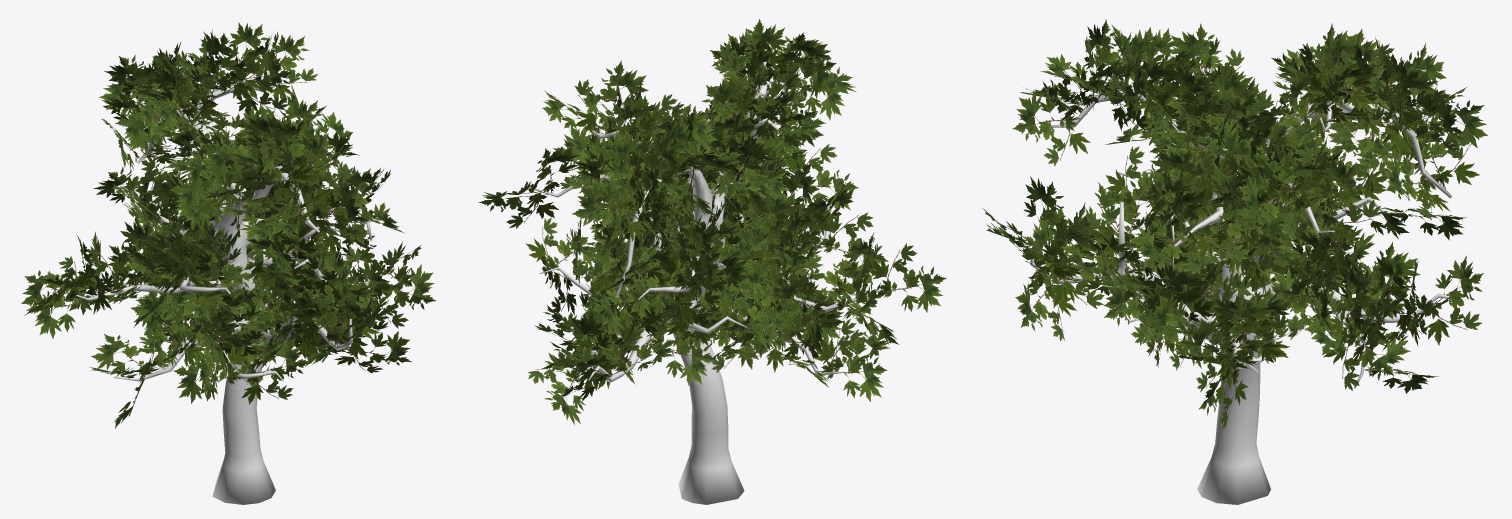
File: Tree_2 (2).fbx
3 renders of one model, left to right at view 1: azimuth 30°, elevation 25°; view 2: azimuth 150°, elevation 25°; view 3: azimuth 270°, elevation 25°, orthographic. The views are drawn at different scales.
Parts seen in each view (by area): view 1: Stronk, Stronk|Blaadjes|Dupli|102, Stronk|Blaadjes|Dupli|117, Stronk|Blaadjes|Dupli|202, Stronk|Blaadjes|Dupli|296, Stronk|Blaadjes|Dupli|81, Stronk|Blaadjes|Dupli|139, Stronk|Blaadjes|Dupli|67, Stronk|Blaadjes|Dupli|145, Stronk|Blaadjes|Dupli|98, Stronk|Blaadjes|Dupli|138, Stronk|Blaadjes|Dupli|52 (+67 smaller); view 2: Stronk, Stronk|Blaadjes|Dupli|260, Stronk|Blaadjes|Dupli|147, Stronk|Blaadjes|Dupli|137, Stronk|Blaadjes|Dupli|289, Stronk|Blaadjes|Dupli|37, Stronk|Blaadjes|Dupli|41, Stronk|Blaadjes|Dupli|238, Stronk|Blaadjes|Dupli|45, Stronk|Blaadjes|Dupli|98, Stronk|Blaadjes|Dupli|50, Stronk|Blaadjes|Dupli|309 (+61 smaller); view 3: Stronk, Stronk|Blaadjes|Dupli|24, Stronk|Blaadjes|Dupli|233, Stronk|Blaadjes|Dupli|297, Stronk|Blaadjes|Dupli|161, Stronk|Blaadjes|Dupli|26, Stronk|Blaadjes|Dupli|162, Stronk|Blaadjes|Dupli|106, Stronk|Blaadjes|Dupli|27, Stronk|Blaadjes|Dupli|108, Stronk|Blaadjes|Dupli|280, Stronk|Blaadjes|Dupli|40 (+83 smaller).
Part boxes in pixels (x1,y1,x2,y2): Stronk: (76, 77, 377, 504); Stronk|Blaadjes|Dupli|102: (173, 336, 249, 403); Stronk|Blaadjes|Dupli|117: (242, 337, 307, 404); Stronk|Blaadjes|Dupli|202: (150, 62, 222, 120); Stronk|Blaadjes|Dupli|296: (294, 133, 353, 210); Stronk|Blaadjes|Dupli|81: (200, 31, 261, 102); Stronk|Blaadjes|Dupli|139: (231, 49, 291, 115); Stronk|Blaadjes|Dupli|67: (370, 264, 436, 328); Stronk|Blaadjes|Dupli|145: (91, 334, 170, 376); Stronk|Blaadjes|Dupli|98: (93, 156, 168, 204); Stronk|Blaadjes|Dupli|138: (261, 34, 318, 102); Stronk|Blaadjes|Dupli|52: (186, 218, 238, 302); Stronk: (534, 81, 881, 504); Stronk|Blaadjes|Dupli|260: (870, 243, 946, 312); Stronk|Blaadjes|Dupli|147: (814, 329, 887, 401); Stronk|Blaadjes|Dupli|137: (575, 60, 648, 133); Stronk|Blaadjes|Dupli|289: (571, 180, 647, 252); Stronk|Blaadjes|Dupli|37: (769, 273, 825, 344); Stronk|Blaadjes|Dupli|41: (783, 143, 858, 211); Stronk|Blaadjes|Dupli|238: (645, 314, 716, 385); Stronk|Blaadjes|Dupli|45: (553, 312, 612, 390); Stronk|Blaadjes|Dupli|98: (660, 232, 721, 296); Stronk|Blaadjes|Dupli|50: (737, 191, 803, 265); Stronk|Blaadjes|Dupli|309: (717, 18, 788, 92); Stronk: (1030, 66, 1451, 504); Stronk|Blaadjes|Dupli|24: (1316, 156, 1380, 247); Stronk|Blaadjes|Dupli|233: (1420, 255, 1483, 345); Stronk|Blaadjes|Dupli|297: (1012, 90, 1090, 166); Stronk|Blaadjes|Dupli|161: (1323, 329, 1410, 390); Stronk|Blaadjes|Dupli|26: (1241, 145, 1336, 208); Stronk|Blaadjes|Dupli|162: (1209, 293, 1275, 375); Stronk|Blaadjes|Dupli|106: (1130, 219, 1219, 274); Stronk|Blaadjes|Dupli|27: (1309, 226, 1374, 292); Stronk|Blaadjes|Dupli|108: (1192, 203, 1271, 261); Stronk|Blaadjes|Dupli|280: (1401, 89, 1487, 151); Stronk|Blaadjes|Dupli|40: (1024, 176, 1085, 260).
Size of what is drawn, in the model's own units: 527 by 518 by 511.
Materials: 2 (1 with a texture image).
